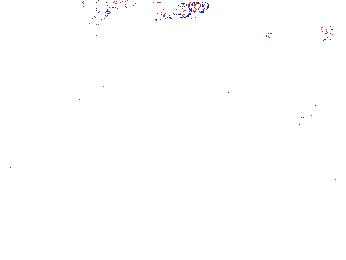glassfish: (219, 101, 323, 166)
red belly glassfish: (263, 27, 293, 44)
redtail glassfish: (87, 1, 212, 31), (51, 80, 113, 109)
